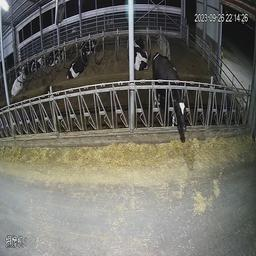cow: (151, 49, 194, 141), (65, 45, 96, 84), (130, 31, 150, 72), (8, 64, 31, 97), (45, 46, 63, 69), (81, 36, 98, 54)
